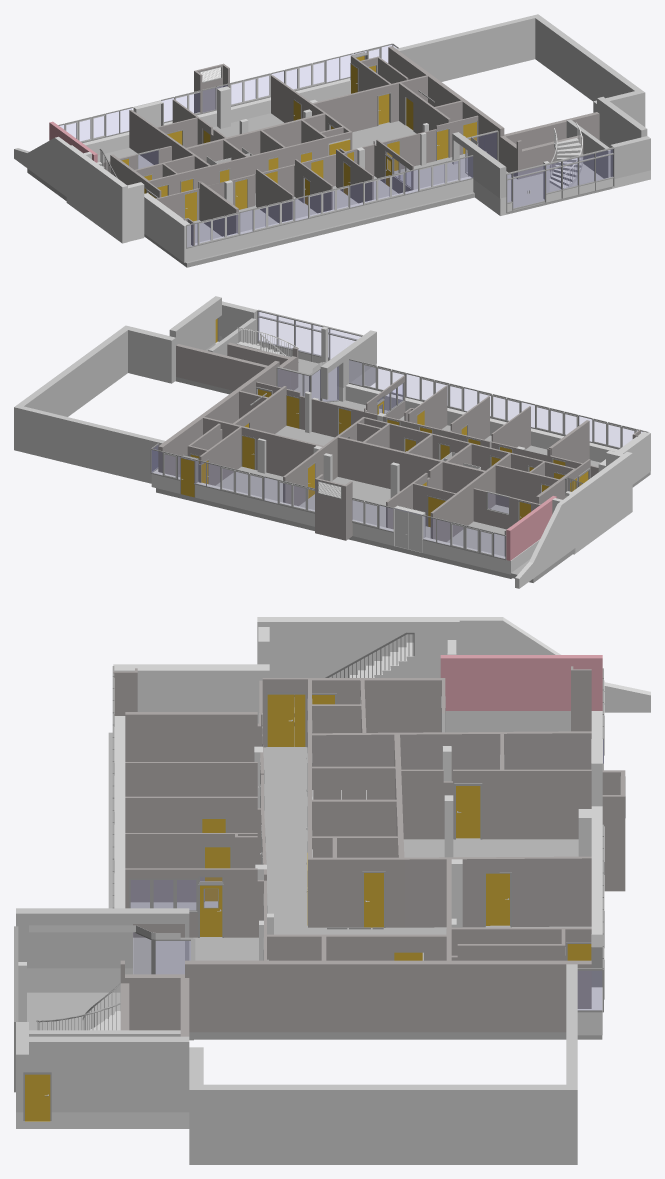
Rendered from Riihimaki1F.glb.
The picture shows the model from 3 angles, top to bottom: view 1: azimuth 30°, elevation 25°; view 2: azimuth 150°, elevation 25°; view 3: azimuth 270°, elevation 25°; orthographic projection. The views are drawn at different scales.
Parts seen in each view (by area): view 1: AdditionalWall1F, IfcSlab/Floor:VP 300mm:451225, IfcWallStandardCase/Basic Wall:Perusmuurit - 430mm Concrete: (×2), IfcWallStandardCase/Basic Wall:Perusmuurit - 400mm Concrete: (×2), IfcWallStandardCase/Basic Wall:VS - 170mm:428371, IfcWallStandardCase/Basic Wall:Perusmuurit - 380mm Concrete:, IfcWallStandardCase/Basic Wall:VS - 200mm:426969, IfcWallStandardCase/Basic Wall:VS - 140mm:425514, IfcWallStandardCase/Basic Wall:Perusmuurit - 500mm Concrete:, IfcWallStandardCase/Basic Wall:Perusmuurit - 300mm Concrete:, IfcWallStandardCase/Basic Wall:VS - 160mm:426176, 1F3 (+39 smaller); view 2: AdditionalWall1F, IfcSlab/Floor:VP 300mm:451225, IfcWallStandardCase/Basic Wall:Perusmuurit - 380mm Concrete:, IfcWallStandardCase/Basic Wall:VS - 200mm:426969, IfcWallStandardCase/Basic Wall:Perusmuurit - 400mm Concrete:, 1F5, IfcWallStandardCase/Basic Wall:Perusmuurit - 300mm Concrete:, IfcWallStandardCase/Basic Wall:VS - 160mm:426176, IfcWallStandardCase/Basic Wall:VS - 170mm:428371, IfcWallStandardCase/Basic Wall:VS Kantava- 300mm:428720, IfcWallStandardCase/Basic Wall:Perusmuurit - 430mm Concrete:, 1F3 (+34 smaller); view 3: AdditionalWall1F, IfcWallStandardCase/Basic Wall:VS Kantava- 300mm:428720, IfcSlab/Floor:VP 300mm:451225, 1F2, IfcWall/Basic Wall:VS - 130mm:427568, IfcWallStandardCase/Basic Wall:VS - 150mm:428027, IfcWallStandardCase/Basic Wall:Perusmuurit - 400mm Concrete:, IfcWallStandardCase/Basic Wall:VS - 160mm:426176, IfcWallStandardCase/Basic Wall:VS Kantava- 300mm:664547, IfcWallStandardCase/Basic Wall:Exterior - Brick on Mtl. Stud, 1F3, IfcWallStandardCase/Basic Wall:VS - 200mm:422793 (+41 smaller).
Boxes of the visible parts, x1,y1,x2,y2 form: AdditionalWall1F: (396,14,645,126); IfcSlab/Floor:VP 300mm:451225: (97,93,474,267); IfcWallStandardCase/Basic Wall:Perusmuurit - 430mm Concrete: (×2): (191,175,506,260); IfcWallStandardCase/Basic Wall:Perusmuurit - 400mm Concrete: (×2): (66,145,144,243); IfcWallStandardCase/Basic Wall:VS - 170mm:428371: (313,75,427,132); IfcWallStandardCase/Basic Wall:Perusmuurit - 380mm Concrete:: (83,78,350,155); IfcWallStandardCase/Basic Wall:VS - 200mm:426969: (186,112,326,161); IfcWallStandardCase/Basic Wall:VS - 140mm:425514: (146,147,285,195); IfcWallStandardCase/Basic Wall:Perusmuurit - 500mm Concrete:: (144,193,190,262); IfcWallStandardCase/Basic Wall:Perusmuurit - 300mm Concrete:: (14,136,70,196); IfcWallStandardCase/Basic Wall:VS - 160mm:426176: (129,109,210,169); 1F3: (452,132,506,198); AdditionalWall1F: (14,325,175,483); IfcSlab/Floor:VP 300mm:451225: (156,400,650,578); IfcWallStandardCase/Basic Wall:Perusmuurit - 380mm Concrete:: (155,472,513,574); IfcWallStandardCase/Basic Wall:VS - 200mm:426969: (336,436,485,493); IfcWallStandardCase/Basic Wall:Perusmuurit - 400mm Concrete:: (568,452,632,554); 1F5: (176,344,267,390); IfcWallStandardCase/Basic Wall:Perusmuurit - 300mm Concrete:: (515,494,574,588); IfcWallStandardCase/Basic Wall:VS - 160mm:426176: (430,453,510,542); IfcWallStandardCase/Basic Wall:VS - 170mm:428371: (203,417,323,476); IfcWallStandardCase/Basic Wall:VS Kantava- 300mm:428720: (158,377,256,475); IfcWallStandardCase/Basic Wall:Perusmuurit - 430mm Concrete:: (345,384,618,462); 1F3: (320,330,376,399); AdditionalWall1F: (189,964,577,1164); IfcWallStandardCase/Basic Wall:VS Kantava- 300mm:428720: (265,960,591,1032); IfcSlab/Floor:VP 300mm:451225: (108,726,602,1039); 1F2: (29,1036,189,1112); IfcWall/Basic Wall:VS - 130mm:427568: (401,769,591,839); IfcWallStandardCase/Basic Wall:VS - 150mm:428027: (404,856,591,927); IfcWallStandardCase/Basic Wall:Perusmuurit - 400mm Concrete:: (257,617,459,706); IfcWallStandardCase/Basic Wall:VS - 160mm:426176: (312,731,591,781); IfcWallStandardCase/Basic Wall:VS Kantava- 300mm:664547: (120,960,265,1032); IfcWallStandardCase/Basic Wall:Exterior - Brick on Mtl. Stud: (440,655,602,710); 1F3: (16,908,189,968); IfcWallStandardCase/Basic Wall:VS - 200mm:422793: (125,712,262,761).
Bounding box in the file's own units: 36.61 × 4.21 × 22.07.
